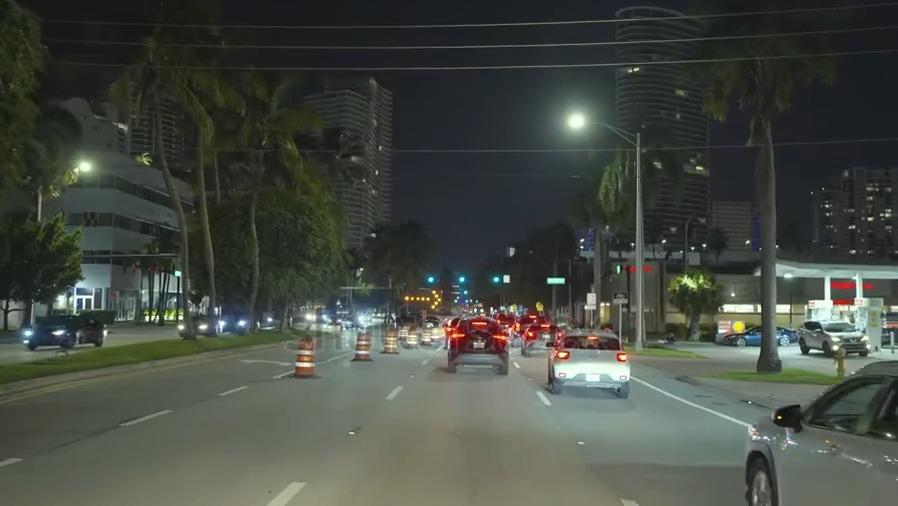car: (749, 359, 898, 506), (547, 331, 630, 395), (449, 318, 508, 372), (25, 312, 111, 347), (803, 317, 868, 354), (731, 324, 795, 351), (177, 313, 219, 337), (403, 291, 442, 309)
cone: (292, 332, 318, 379), (354, 329, 371, 359), (382, 327, 399, 354), (405, 326, 416, 351)
wheel: (745, 452, 778, 506)
